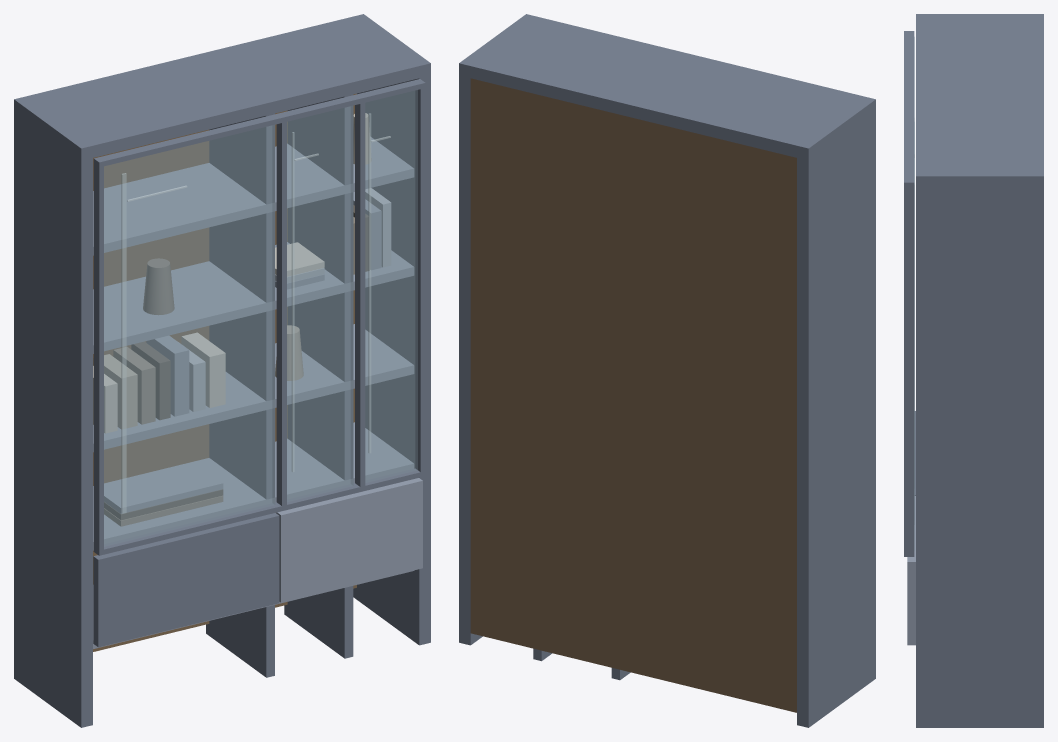
File: glasscabinet.glb
3 views of the same model, side by side, from view 1: azimuth 30°, elevation 25°; view 2: azimuth 150°, elevation 25°; view 3: azimuth 270°, elevation 25° (orthographic). The views are drawn at different scales.
Visible parts, largest first — view 1: glasscabinet; view 2: glasscabinet; view 3: glasscabinet.
Boxes of the visible parts, box(x1,y1,x2,y2) form: glasscabinet: box(14, 14, 430, 727); glasscabinet: box(459, 14, 875, 727); glasscabinet: box(904, 14, 1043, 727).
Bounding box in the file's own units: 1.2 × 1.9 × 0.437.
